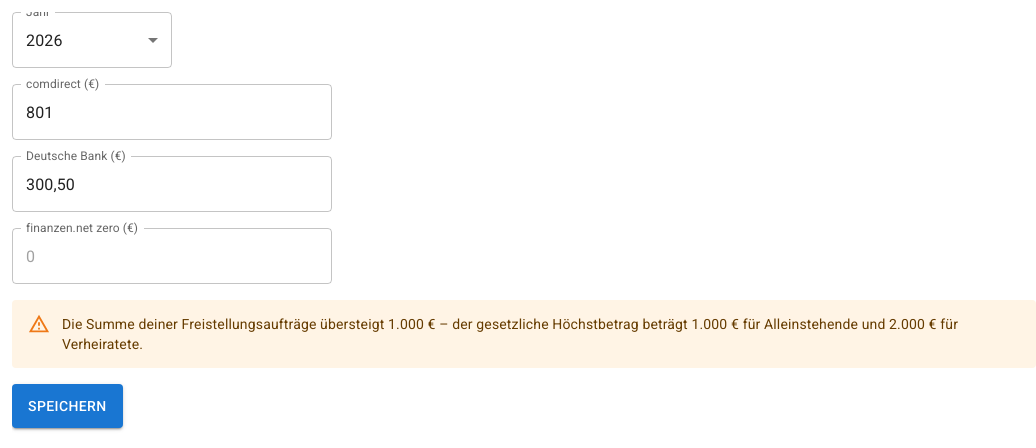
Scenario: AllowanceForm › shows the year's stored amounts per broker and the years from next year to the first ledger year
Expected: the field labelled "comdirect (€)" holds "801", [12, 84, 332, 140]
Expected: the field labelled "Deutsche Bank (€)" holds "300,50", [12, 156, 332, 212]
Click the dropdown named "Jahr". click: (44, 40)
box: [26, 30, 63, 50]
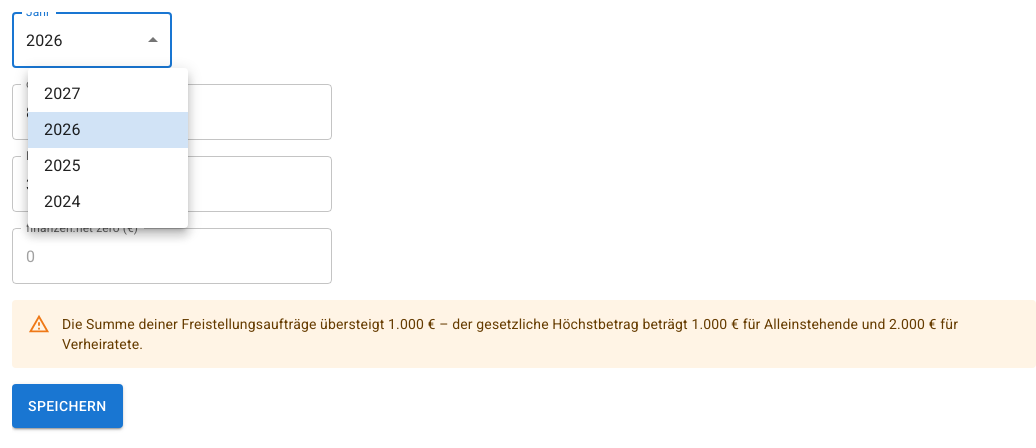
Expected: the options read "2027", "2026", "2025", "2024", in this order
Click the option "2025". click: (62, 166)
box: [44, 156, 81, 175]
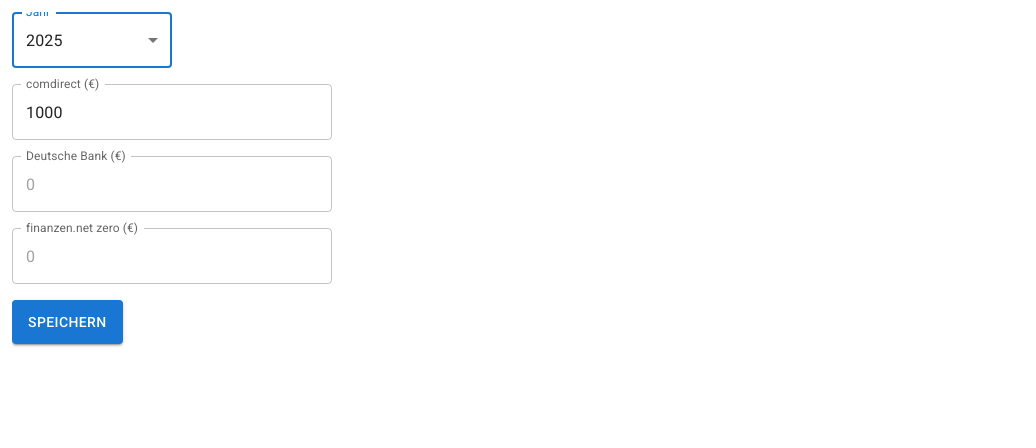
Expected: the field labelled "comdirect (€)" holds "1000", [12, 84, 332, 140]
Expected: the field labelled "Deutsche Bank (€)" is empty, [12, 156, 332, 212]
Expected: the text "übersteigt 1.000 €" is gone
